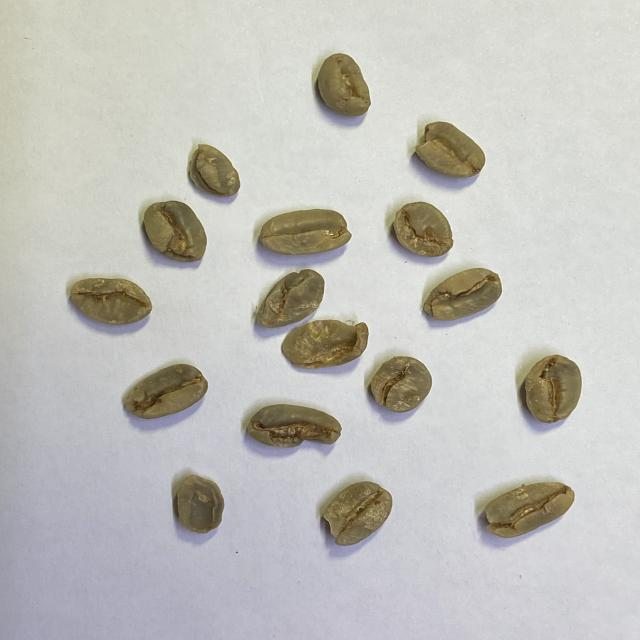bad: (479, 481, 576, 539), (122, 362, 210, 420), (321, 480, 394, 547), (281, 318, 370, 371), (245, 403, 344, 450), (422, 266, 503, 322), (258, 207, 352, 255), (412, 120, 487, 180), (522, 353, 584, 425), (253, 268, 326, 329), (68, 276, 152, 328), (141, 200, 208, 265), (369, 355, 433, 414), (391, 200, 455, 258), (316, 52, 372, 118), (174, 474, 227, 536), (187, 142, 241, 198)
